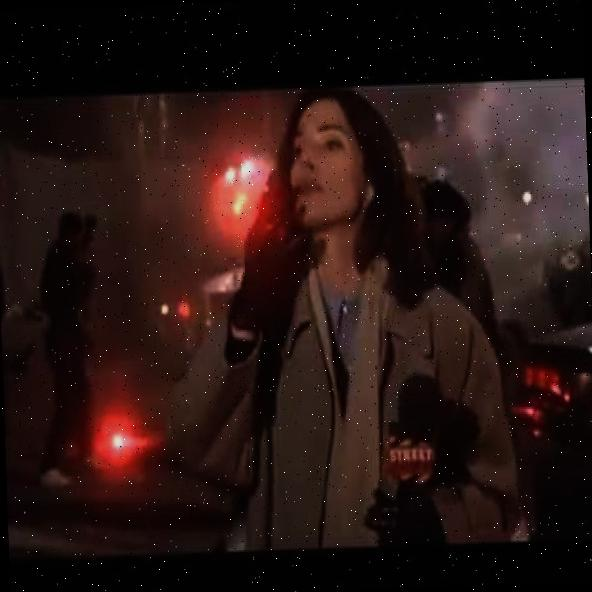smoke: (480, 78, 590, 225)
